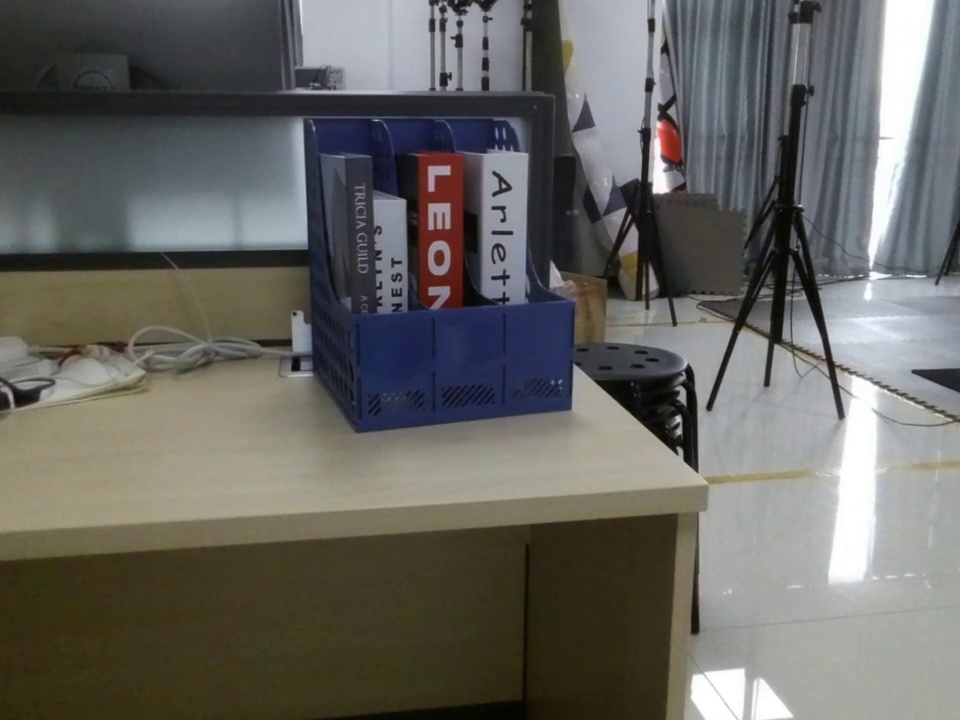files: (299, 113, 576, 433)
